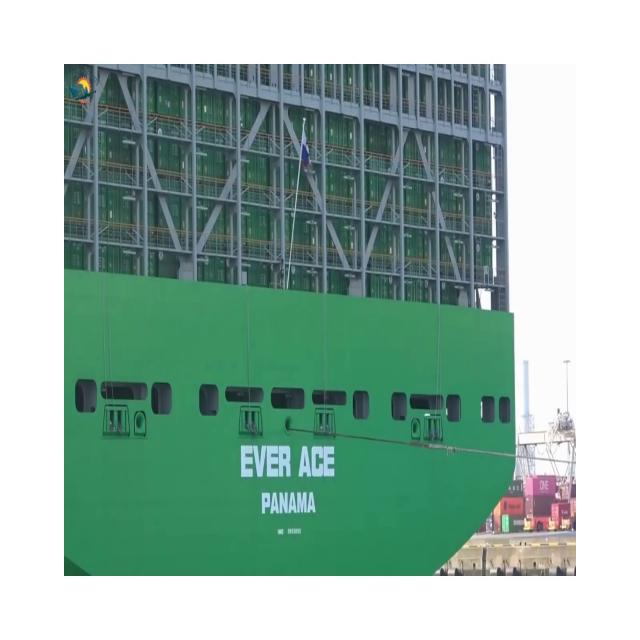OCR: (234, 422, 342, 531)
